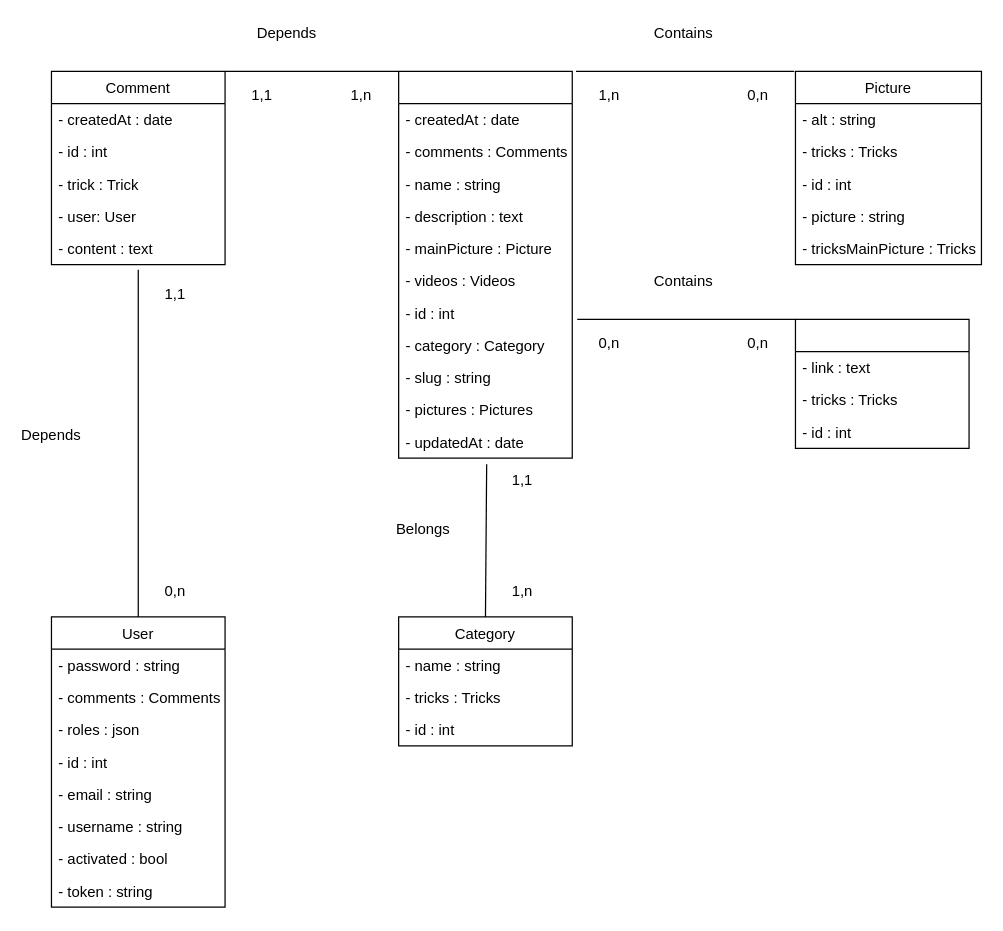
Image size: 1003x931. Some labels were removed from this diagram. Here are the shapes that lost their labels. From the top down, the box of each, then its label:
(397, 70, 572, 458): Trick
(794, 318, 969, 448): Video
